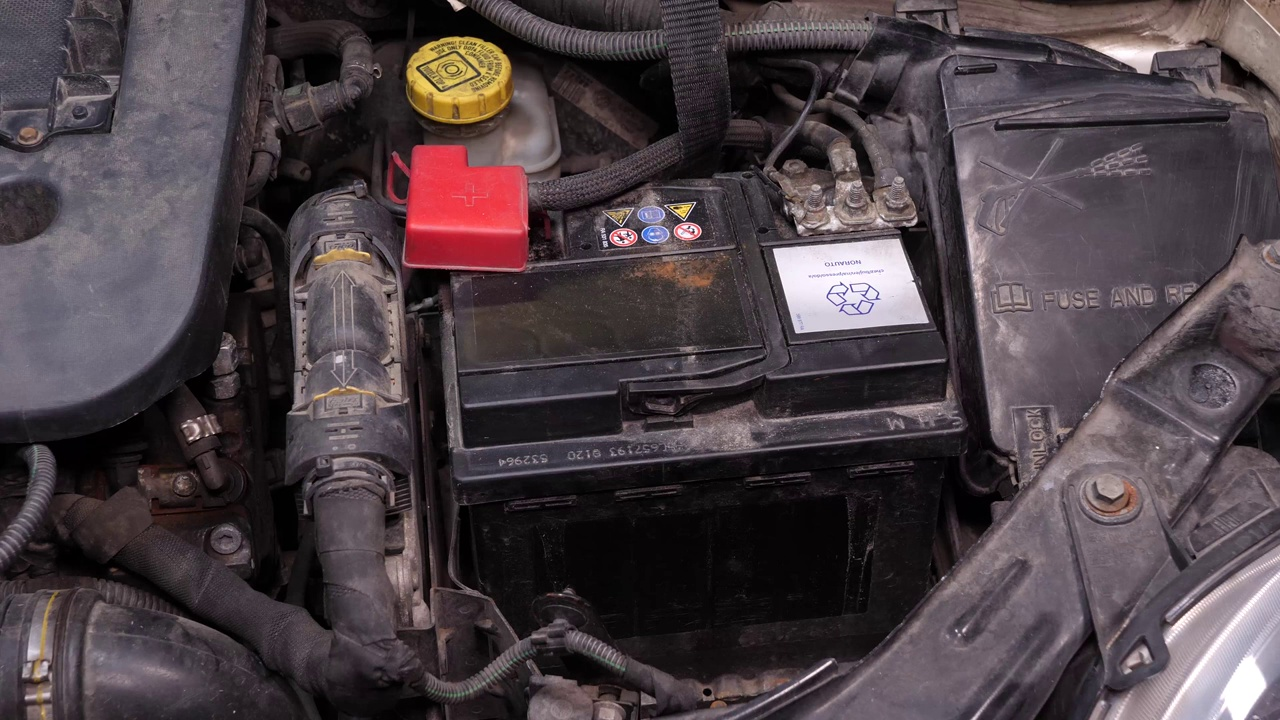battery: (383, 153, 965, 400)
neg_connected: (757, 133, 927, 237)
pos_connected: (382, 116, 552, 303)
